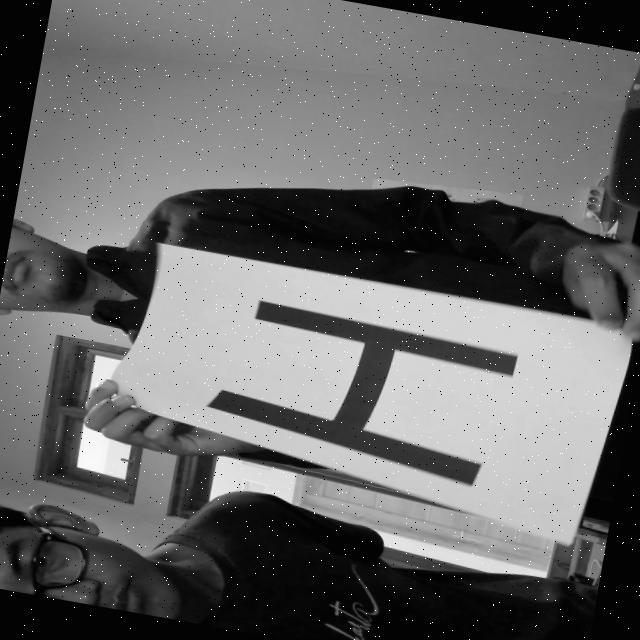h: (200, 288, 522, 488)
